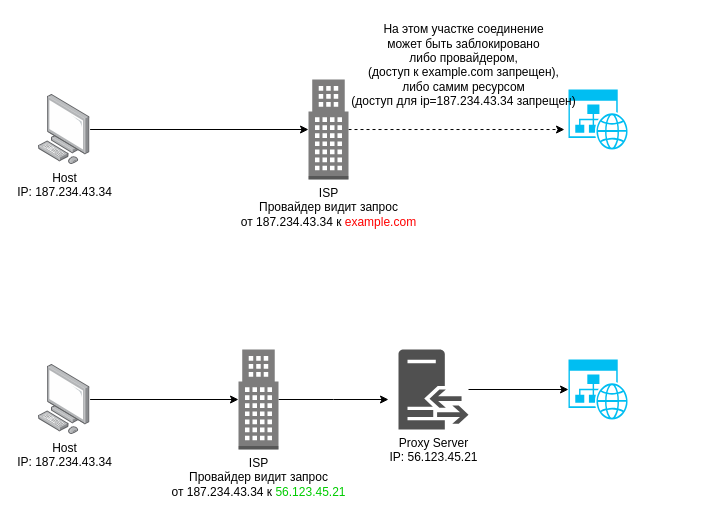
Image size: 701x516. Some labels were removed from this diagram. The box of each missing label's shape, as (x1, y1, x2, y2) in pixels:
example.com видит запрос от 187.234.43.34: (568, 89, 628, 149)
example.com видит запрос от 56.123.45.21: (568, 359, 628, 419)
